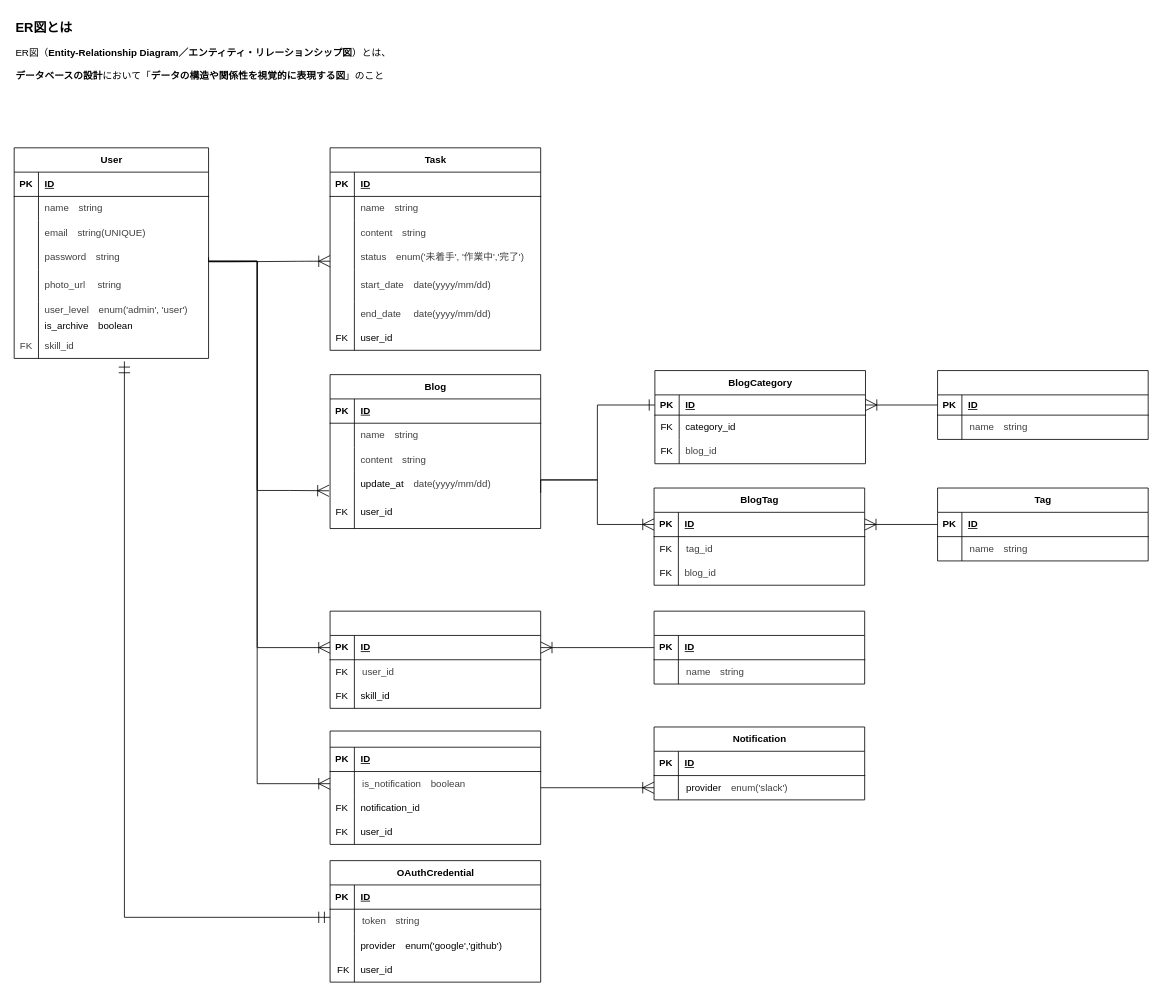
The diagram is 1162 pixels wide and 996 high, and some of its shapes have lost their labels. The box of each missing label's shape, as (x1, y1, x2, y2) in pixels:
Category: (937, 370, 1148, 439)
Setting: (329, 730, 541, 844)
Skill: (653, 610, 865, 684)
UserSkill: (329, 610, 541, 708)
